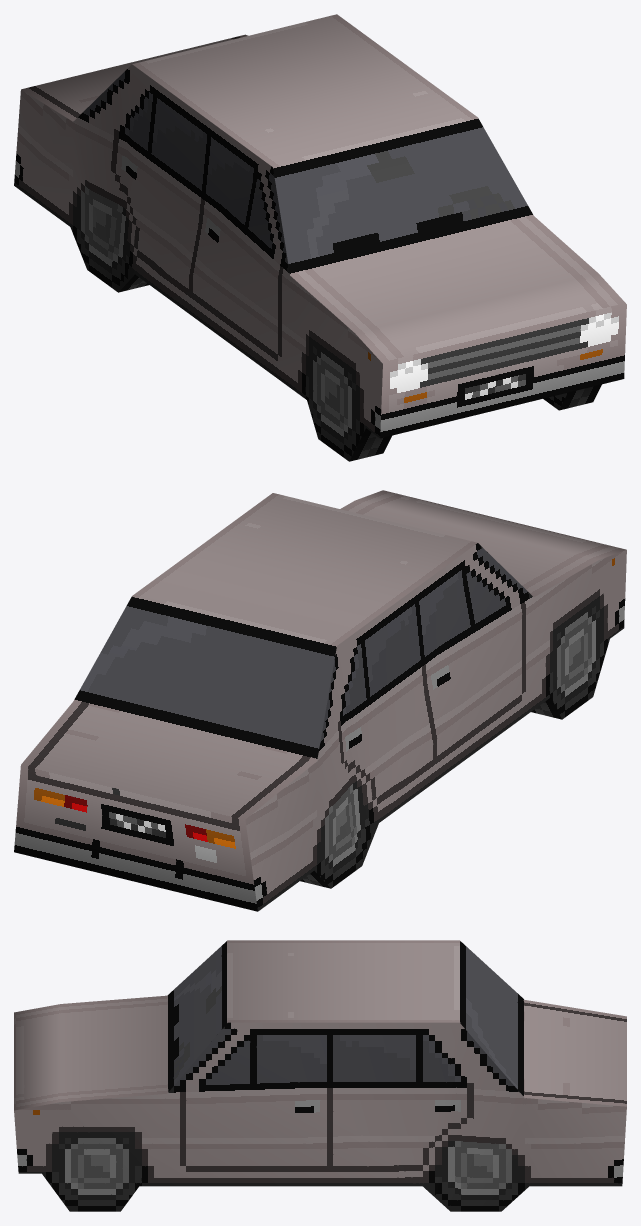
The model's file is sv-vaz2101-grey.glb.
3 renders of one model, top to bottom at view 1: azimuth 30°, elevation 25°; view 2: azimuth 150°, elevation 25°; view 3: azimuth 270°, elevation 25°, orthographic. The views are drawn at different scales.
Parts seen in each view (by area): view 1: sv-vaz2101-grey-mesh; view 2: sv-vaz2101-grey-mesh; view 3: sv-vaz2101-grey-mesh.
Part boxes in pixels (box(x1,y1,x2,y2)): sv-vaz2101-grey-mesh: box(14, 14, 626, 461); sv-vaz2101-grey-mesh: box(14, 490, 626, 911); sv-vaz2101-grey-mesh: box(14, 940, 626, 1211).
Bounding box in the file's own units: 50 × 43 × 132.
Materials: 1 (1 with a texture image).
